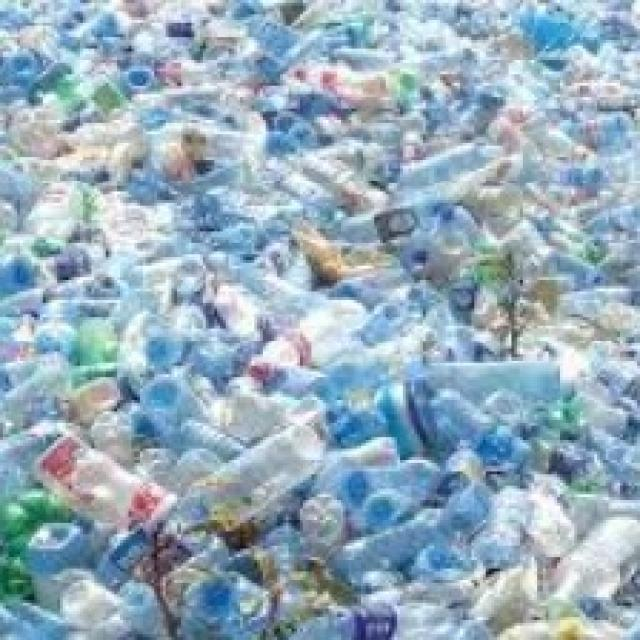heap: (39, 30, 589, 607)
plastic_bottle: (159, 410, 335, 548), (419, 361, 543, 483), (56, 430, 175, 539), (243, 296, 351, 393), (543, 505, 639, 613), (340, 499, 454, 579), (285, 592, 468, 640), (333, 189, 458, 244), (21, 233, 126, 290), (169, 406, 254, 464), (2, 582, 65, 640), (30, 519, 89, 577), (124, 56, 164, 99)
